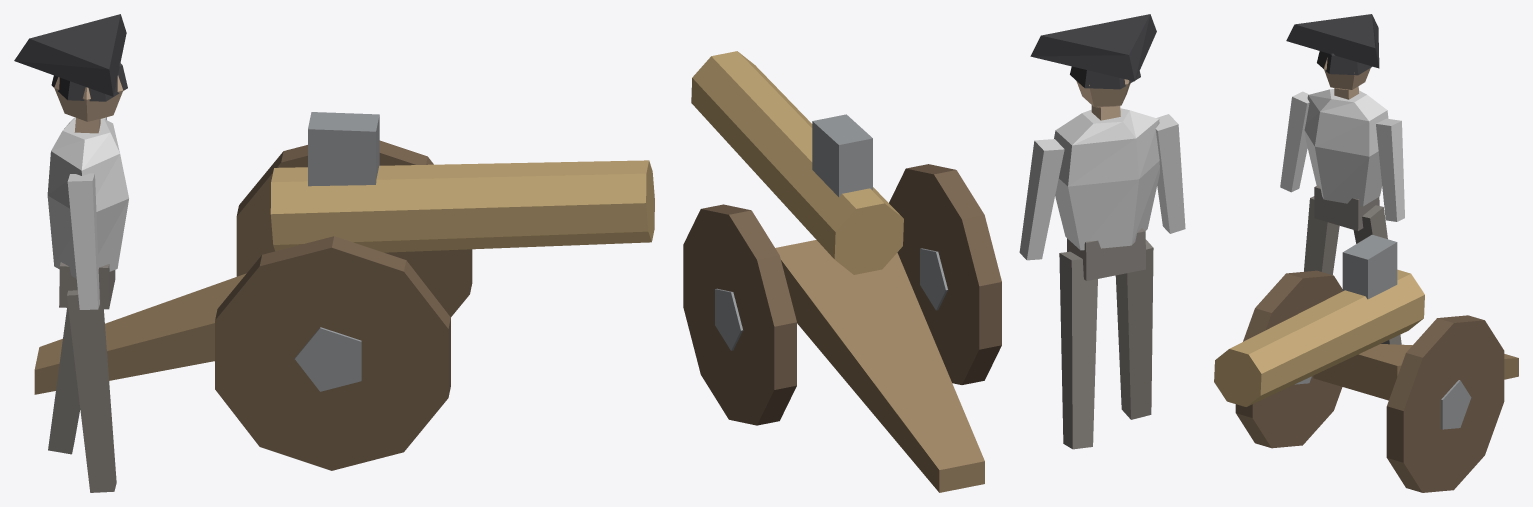
The model's file is gatlinggun.glb.
3 renders of one model, left to right at view 1: azimuth 30°, elevation 25°; view 2: azimuth 150°, elevation 25°; view 3: azimuth 270°, elevation 25°, orthographic. The views are drawn at different scales.
Parts seen in each view (by area): view 1: LOD0; view 2: LOD0; view 3: LOD0.
Part boxes in pixels (x1,y1,x2,y2): LOD0: (14,14,654,492); LOD0: (683,14,1185,492); LOD0: (1214,14,1518,492).
Size of what is drawn, in the model's own units: 0.9485 by 0.7259 by 0.5953.
